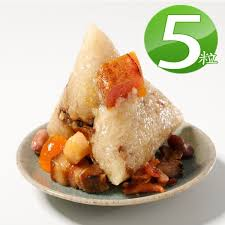zongzi: (32, 27, 182, 194)
